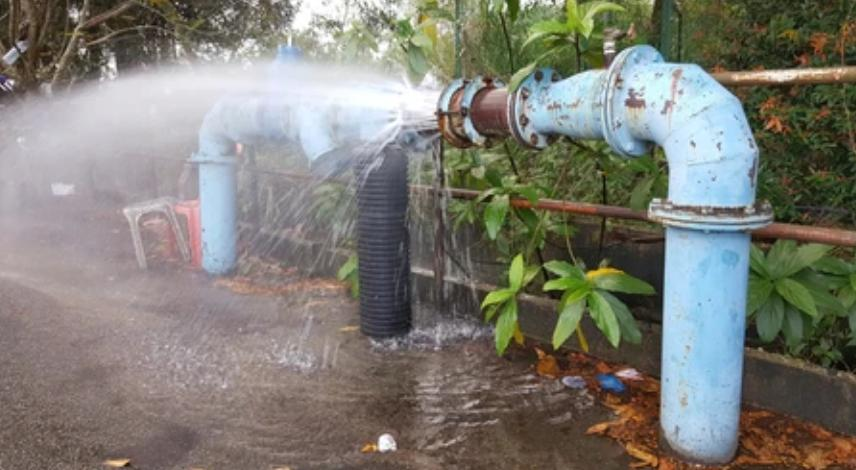pipe burst: (3, 64, 450, 199)
water accumulation: (143, 307, 648, 470)
